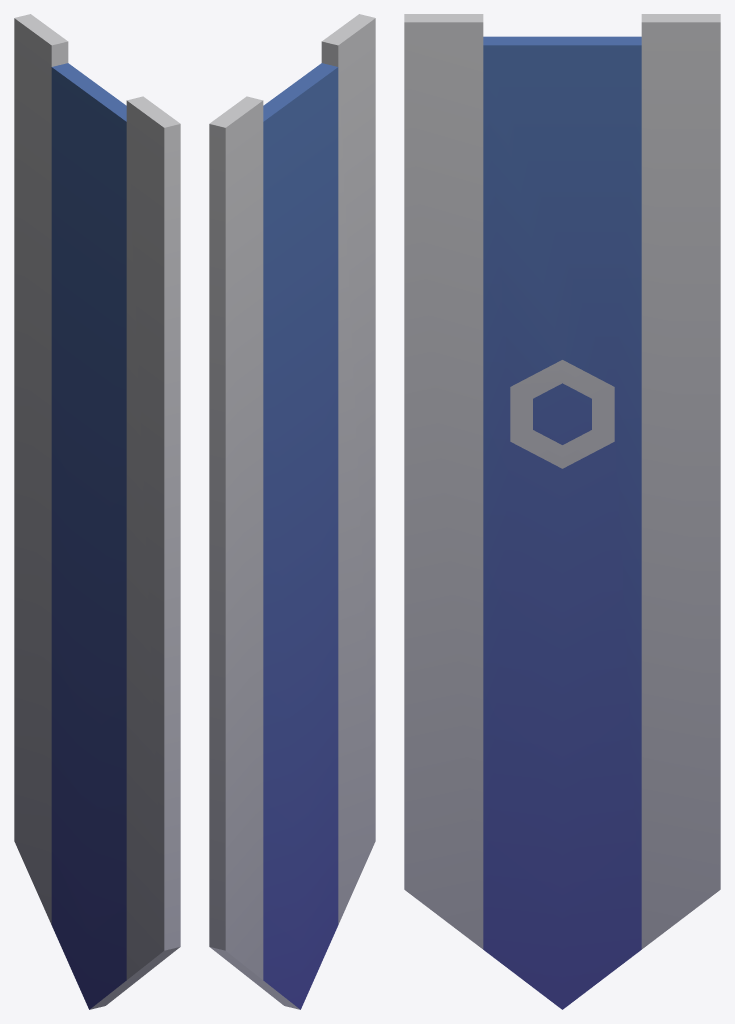
Rendered from castle-flag-banner-long.glb.
3 views of the same model, side by side, from view 1: azimuth 30°, elevation 25°; view 2: azimuth 150°, elevation 25°; view 3: azimuth 270°, elevation 25° (orthographic). The views are drawn at different scales.
Parts seen in each view (by area): view 1: flag-banner-long; view 2: flag-banner-long; view 3: flag-banner-long.
Part boxes in pixels (x1,y1,x2,y2): flag-banner-long: (14, 14, 180, 1009); flag-banner-long: (209, 14, 375, 1009); flag-banner-long: (404, 14, 720, 1009).
Size of the model in its own units: 0.04 by 2.17 by 0.63.
